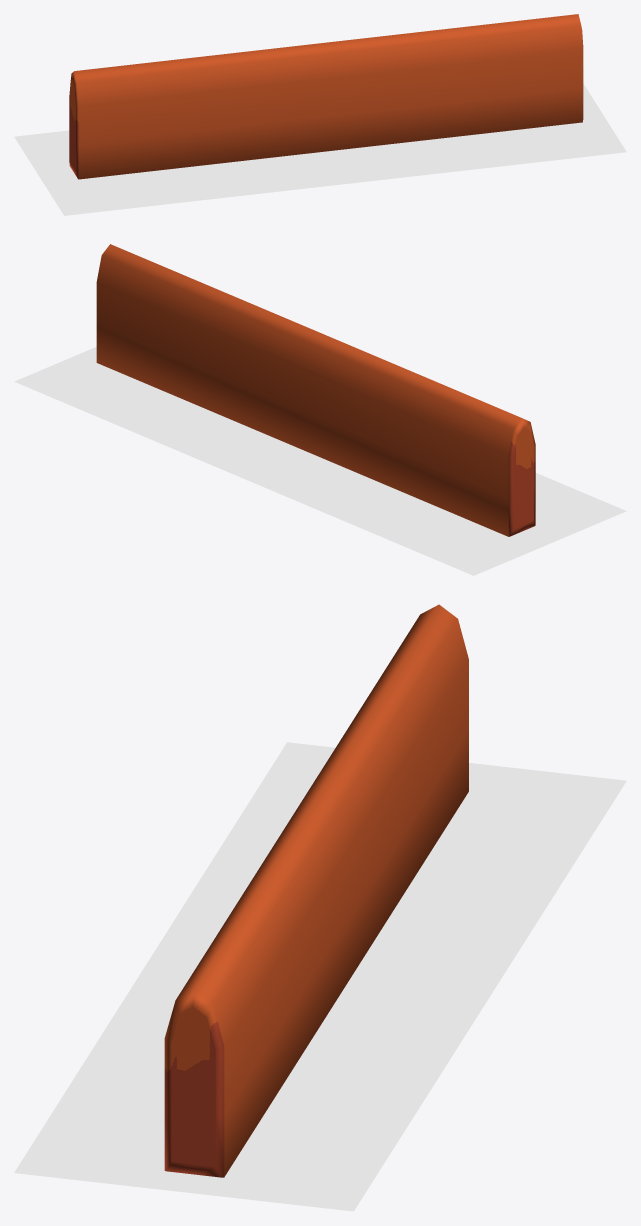
The model's file is NormalContent.fbx.
The picture shows the model from 3 angles, top to bottom: view 1: azimuth 30°, elevation 25°; view 2: azimuth 150°, elevation 25°; view 3: azimuth 270°, elevation 25°; orthographic projection. The views are drawn at different scales.
Parts seen in each view (by area): view 1: BasicObstacle, Shadow; view 2: BasicObstacle, Shadow; view 3: Shadow, BasicObstacle.
Part boxes in pixels (bbox=[...]): BasicObstacle: bbox=[69, 14, 583, 179]; Shadow: bbox=[14, 84, 626, 215]; BasicObstacle: bbox=[96, 244, 535, 536]; Shadow: bbox=[14, 347, 626, 575]; Shadow: bbox=[14, 742, 626, 1211]; BasicObstacle: bbox=[164, 604, 468, 1177].
Size of the model in its own units: 2.15 by 0.3992 by 1.19.
